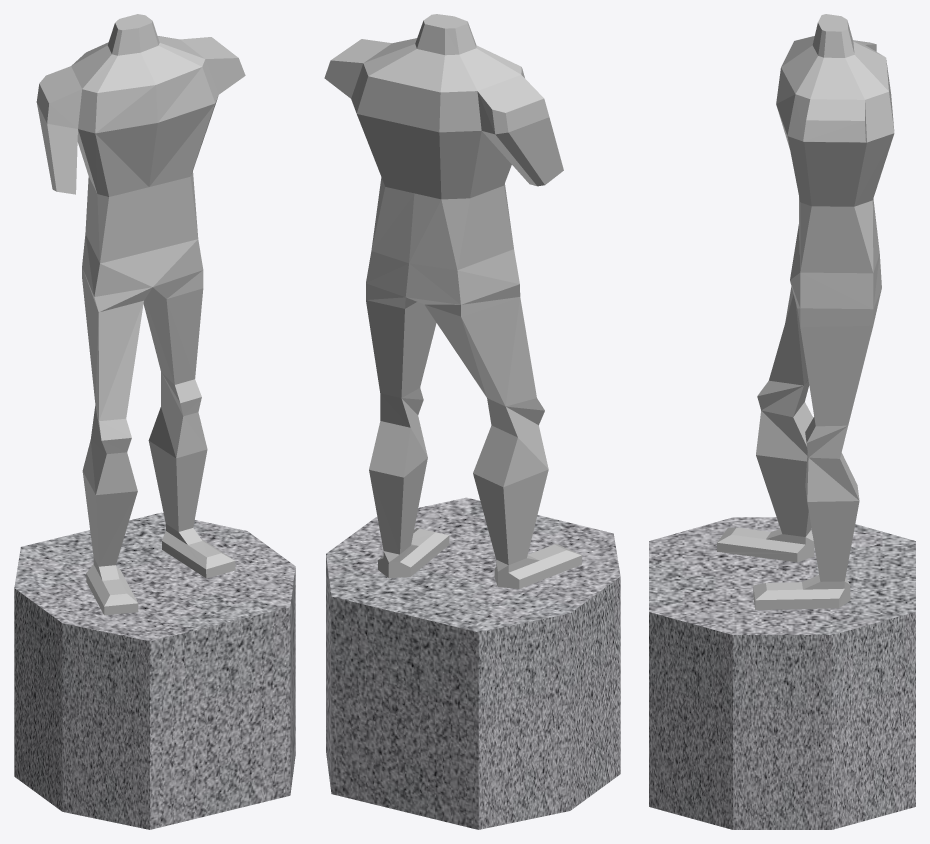
The model's file is statue.glb.
The picture shows the model from 3 angles, left to right: view 1: azimuth 30°, elevation 25°; view 2: azimuth 150°, elevation 25°; view 3: azimuth 270°, elevation 25°; orthographic projection. The views are drawn at different scales.
Size of the model in its own units: 3.88 by 11.51 by 3.71.
2 materials, 1 textured.
